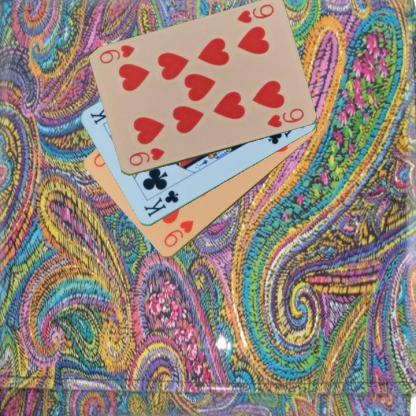9h: (161, 217, 195, 249), (234, 2, 275, 25), (126, 145, 166, 168)
Kc: (140, 188, 180, 219)
